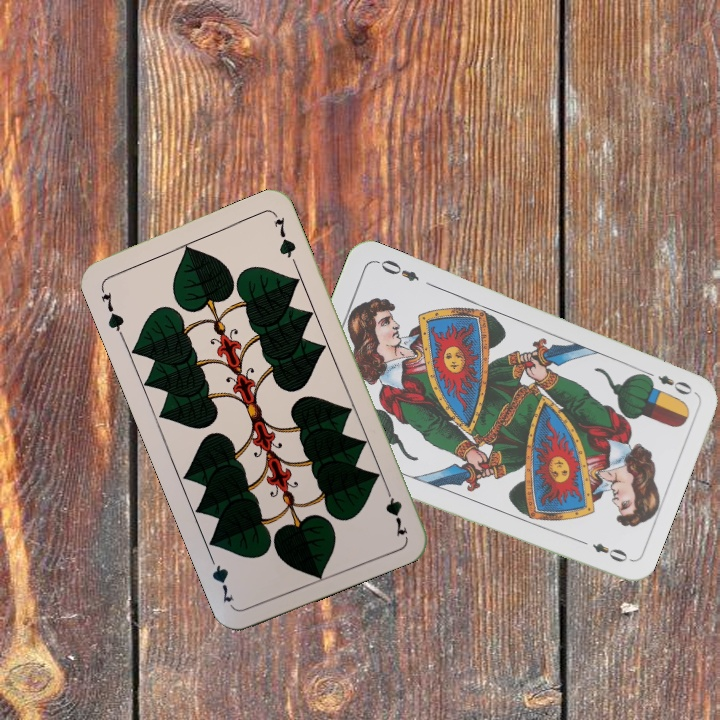EO: (639, 366, 695, 398)
G7: (380, 480, 411, 539), (96, 283, 127, 340)
